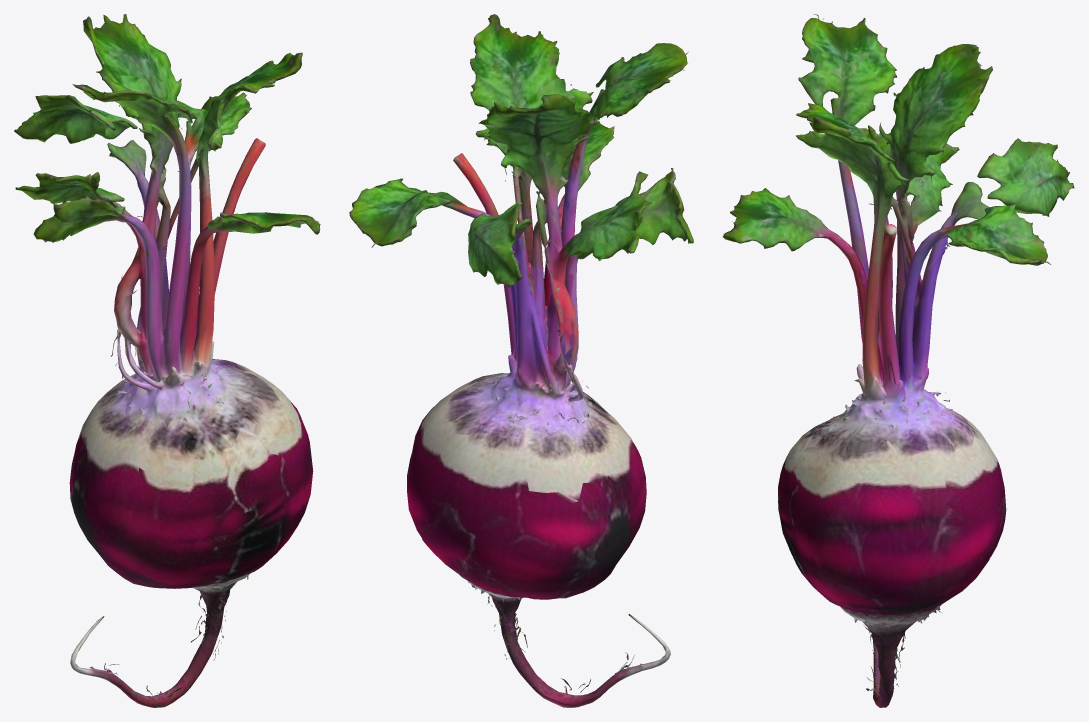
Rendered from Meshy_AI_Point_Cloud_Beetroot_0130140148_texture_decimated.obj.
3 renders of one model, left to right at view 1: azimuth 30°, elevation 25°; view 2: azimuth 150°, elevation 25°; view 3: azimuth 270°, elevation 25°, orthographic. The views are drawn at different scales.
Parts seen in each view (by area): view 1: Meshy_AI_Point_Cloud_Beetroot_0130140148_texture; view 2: Meshy_AI_Point_Cloud_Beetroot_0130140148_texture; view 3: Meshy_AI_Point_Cloud_Beetroot_0130140148_texture.
Boxes of the visible parts, left/top/right/bottom form: Meshy_AI_Point_Cloud_Beetroot_0130140148_texture: left=14, top=14, right=320, bottom=707; Meshy_AI_Point_Cloud_Beetroot_0130140148_texture: left=349, top=14, right=693, bottom=707; Meshy_AI_Point_Cloud_Beetroot_0130140148_texture: left=722, top=14, right=1074, bottom=707.
Bounding box in the file's own units: 0.8754 × 2 × 0.9862.
